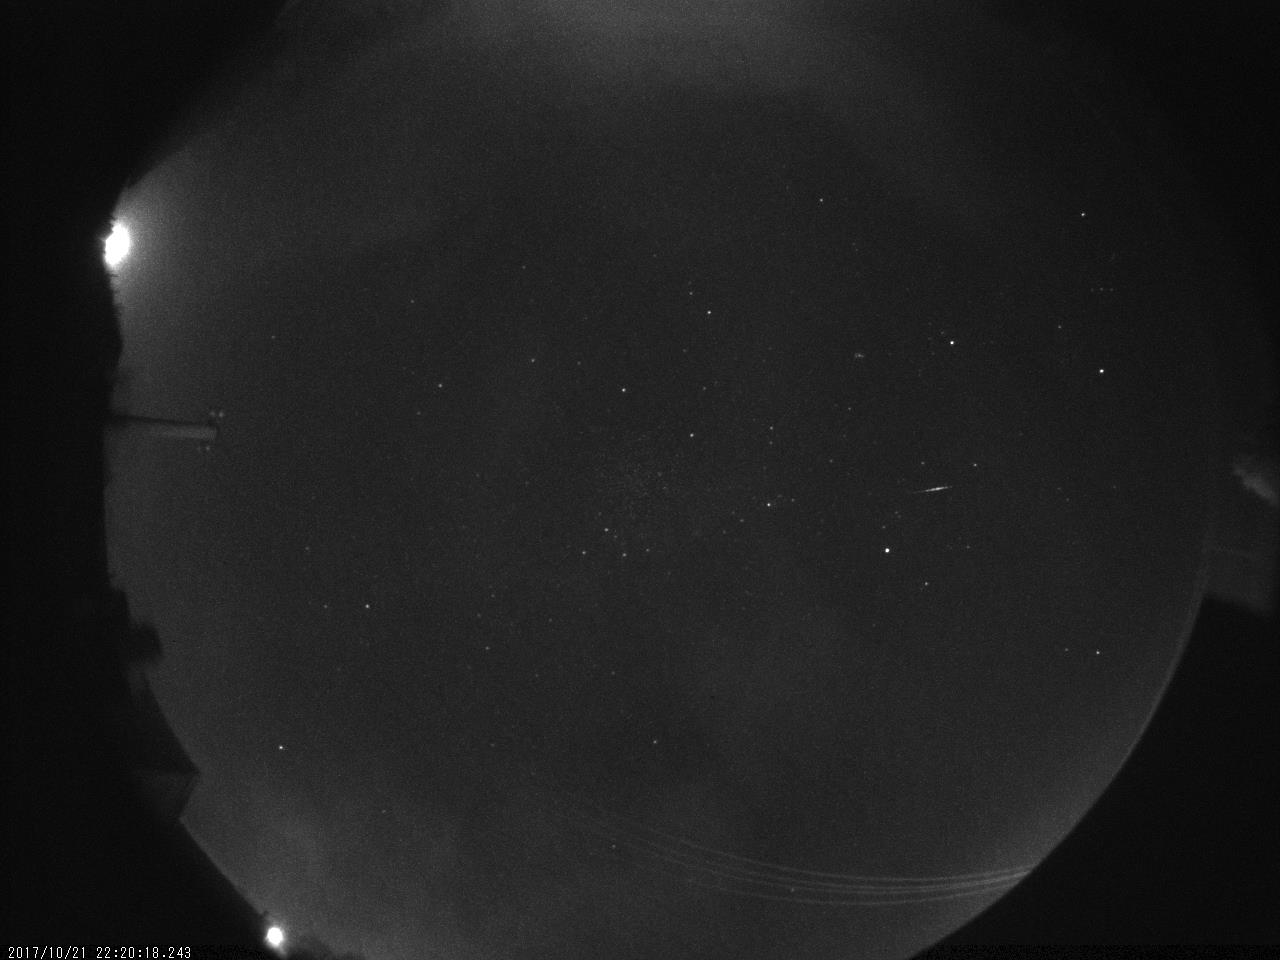meteor: (895, 476, 966, 506)
